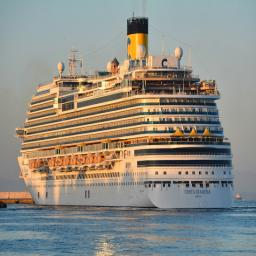cruises: (15, 13, 239, 213)
